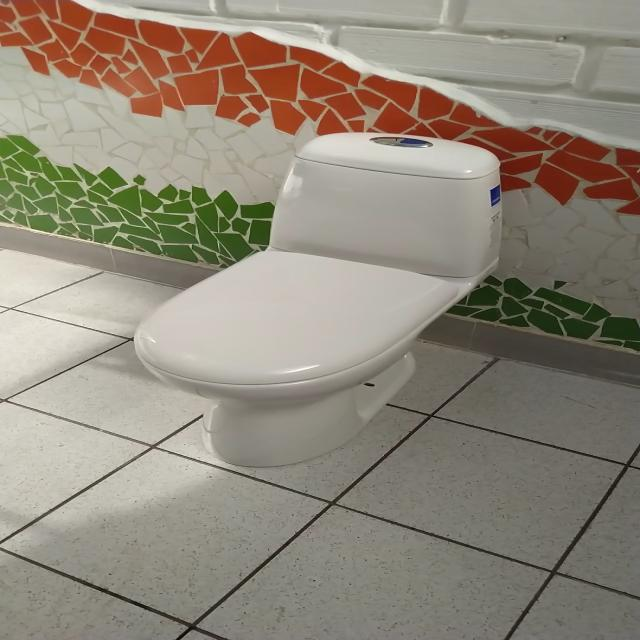toilet: (132, 131, 503, 468)
